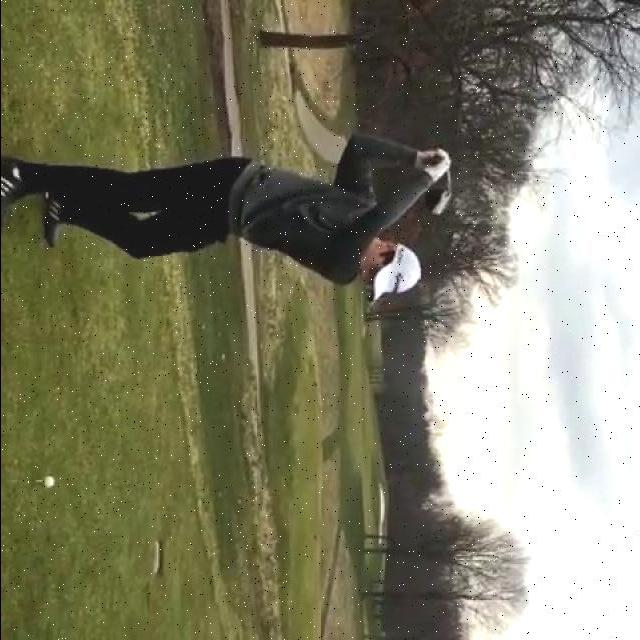golf ball: (41, 476, 54, 487)
golf club-handle: (421, 153, 453, 218)
golf club-head: (430, 194, 449, 217)
